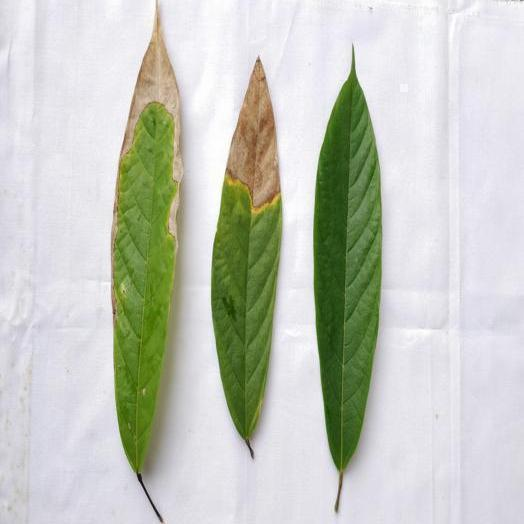Healthy Leaf: (314, 48, 380, 510)
Potassium: (111, 10, 181, 519), (211, 57, 281, 458)
